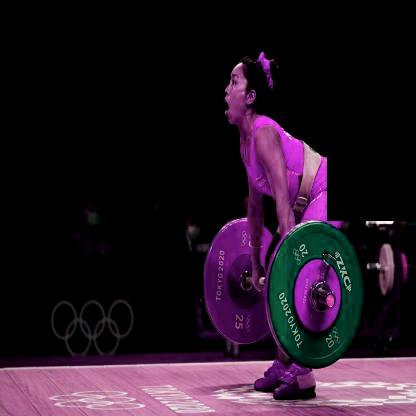barbell: (268, 222, 365, 369), (203, 218, 288, 346)
